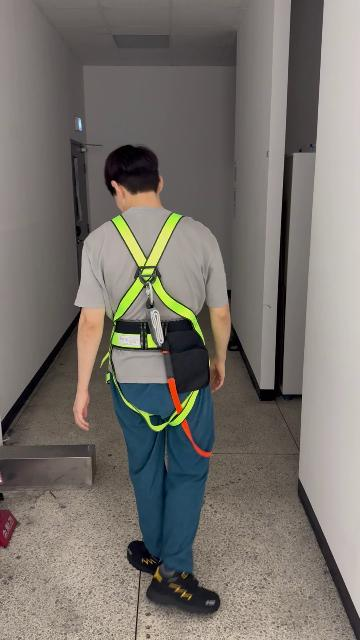helmet_not_worn: (102, 143, 165, 202)
shoe_worn: (147, 565, 220, 613), (126, 541, 161, 574)
vest_worn: (101, 216, 211, 420)
